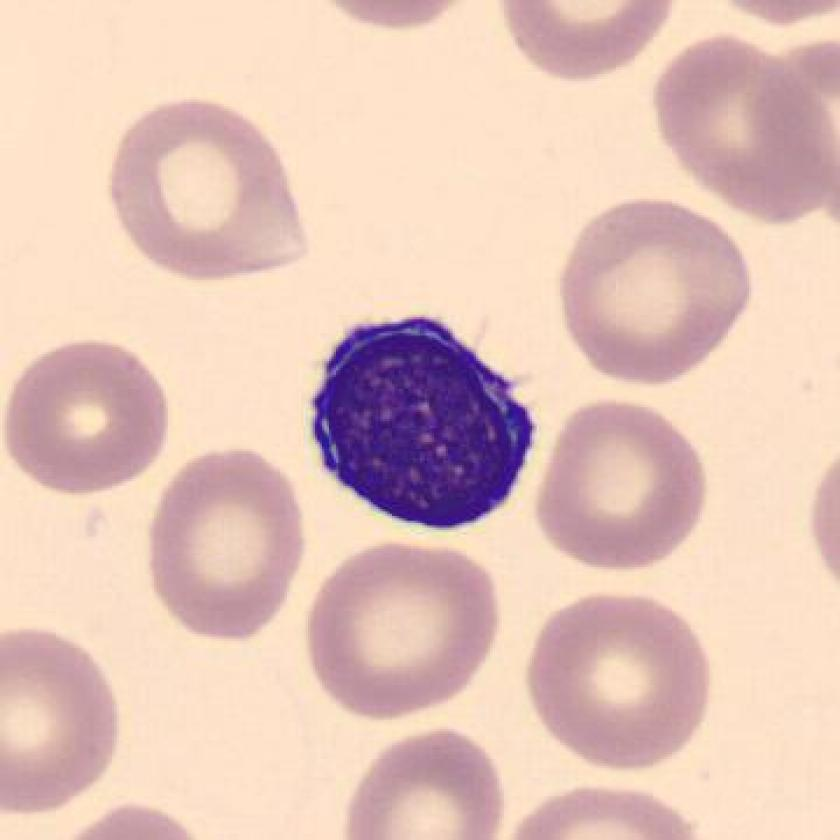lymphocyte: (295, 293, 545, 547)
